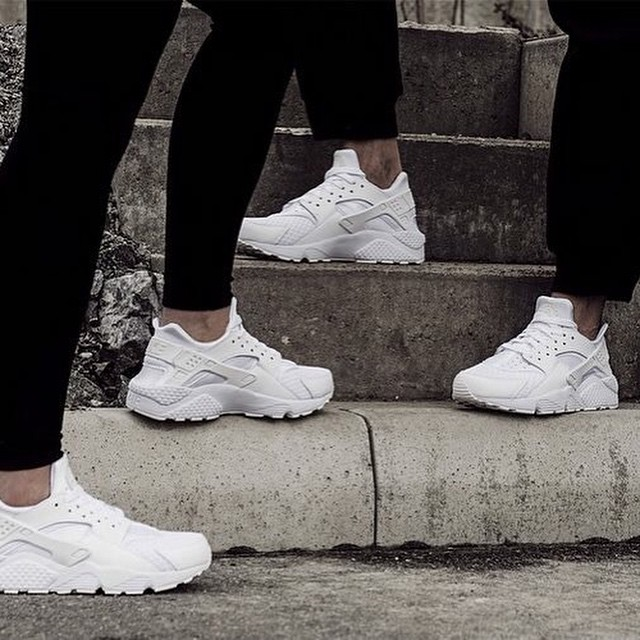sneaker: (115, 273, 346, 443), (1, 437, 227, 608), (436, 270, 640, 432), (231, 124, 434, 283)
